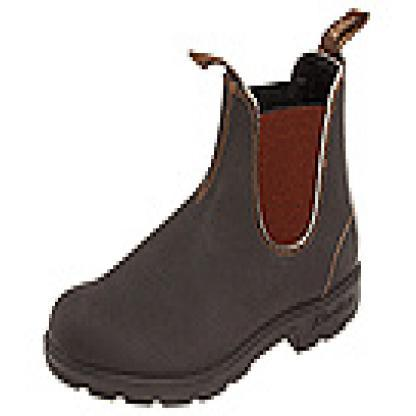bota: (45, 46, 361, 403)
